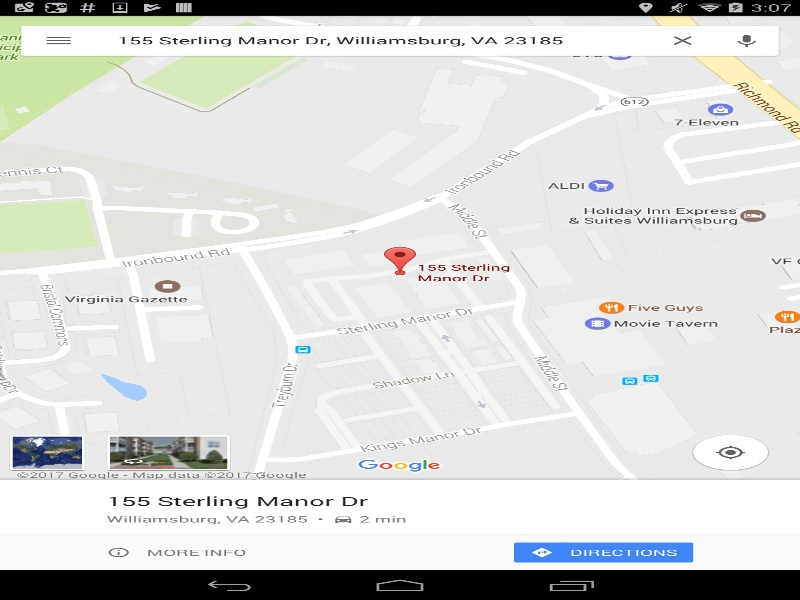Button: (12, 436, 82, 469), (714, 25, 778, 55)
Input: (90, 25, 666, 55)
